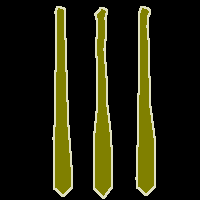tie: (53, 6, 72, 196), (136, 6, 155, 195), (94, 8, 112, 198)
